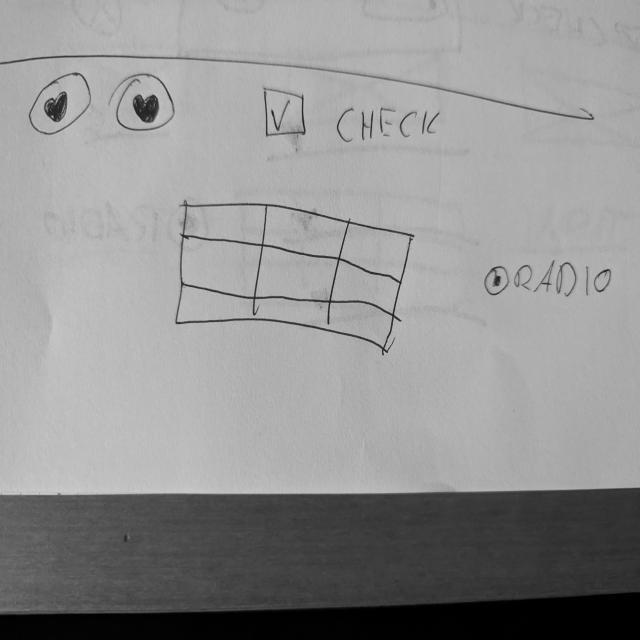checkbox: (257, 81, 444, 148)
icon-button: (24, 67, 96, 139), (114, 69, 178, 134)
radio: (482, 256, 618, 304)
table: (174, 197, 416, 357)
